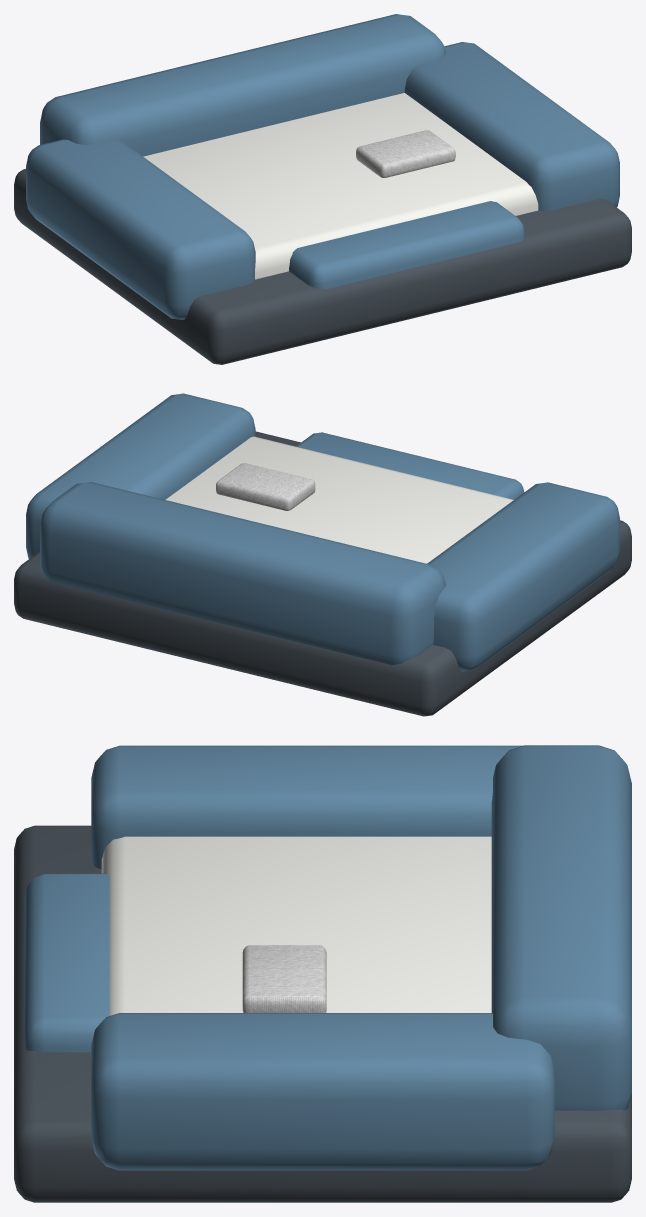
File: pet-bed.glb
The picture shows the model from 3 angles, top to bottom: view 1: azimuth 30°, elevation 25°; view 2: azimuth 150°, elevation 25°; view 3: azimuth 270°, elevation 25°; orthographic projection. The views are drawn at different scales.
Parts seen in each view (by area): view 1: catalog_surface_RealismUV; view 2: catalog_surface_RealismUV; view 3: catalog_surface_RealismUV.
Boxes of the visible parts, x1=… form: catalog_surface_RealismUV: x1=14, y1=14, x2=631, y2=364; catalog_surface_RealismUV: x1=14, y1=393, x2=631, y2=716; catalog_surface_RealismUV: x1=14, y1=745, x2=631, y2=1202.
Bounding box in the file's own units: 0.7 × 0.18 × 0.55.
Materials: 4 (1 with a texture image).
